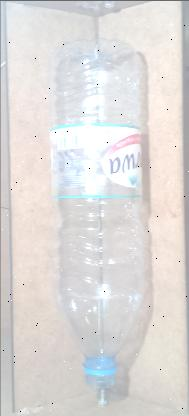Plastic Bottle: (49, 37, 142, 389)
